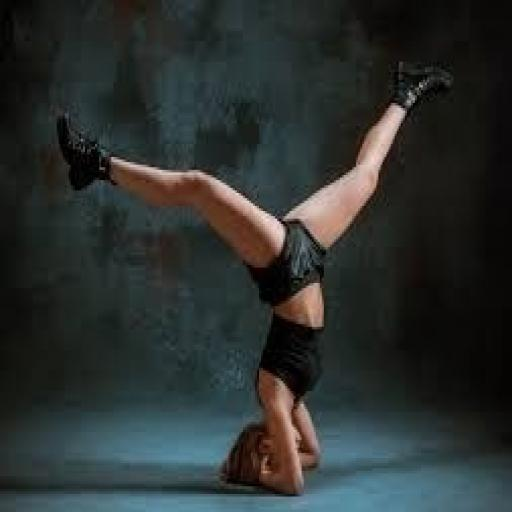dancing: (53, 54, 457, 499)
